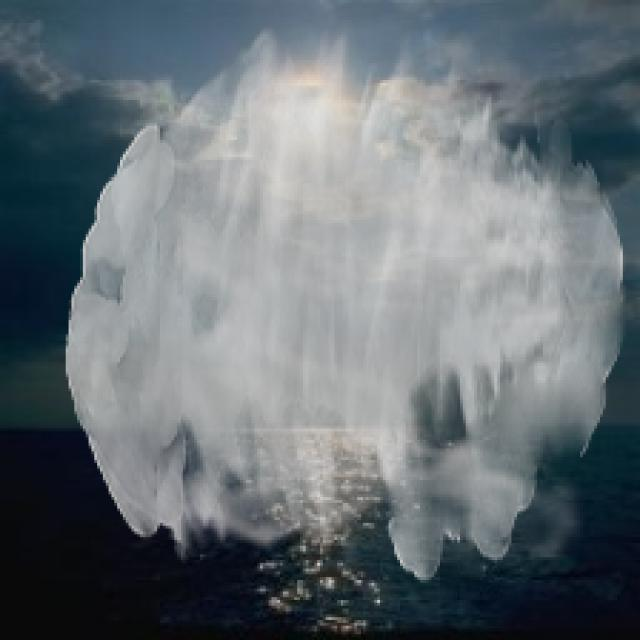Smoke: (65, 20, 626, 583)
